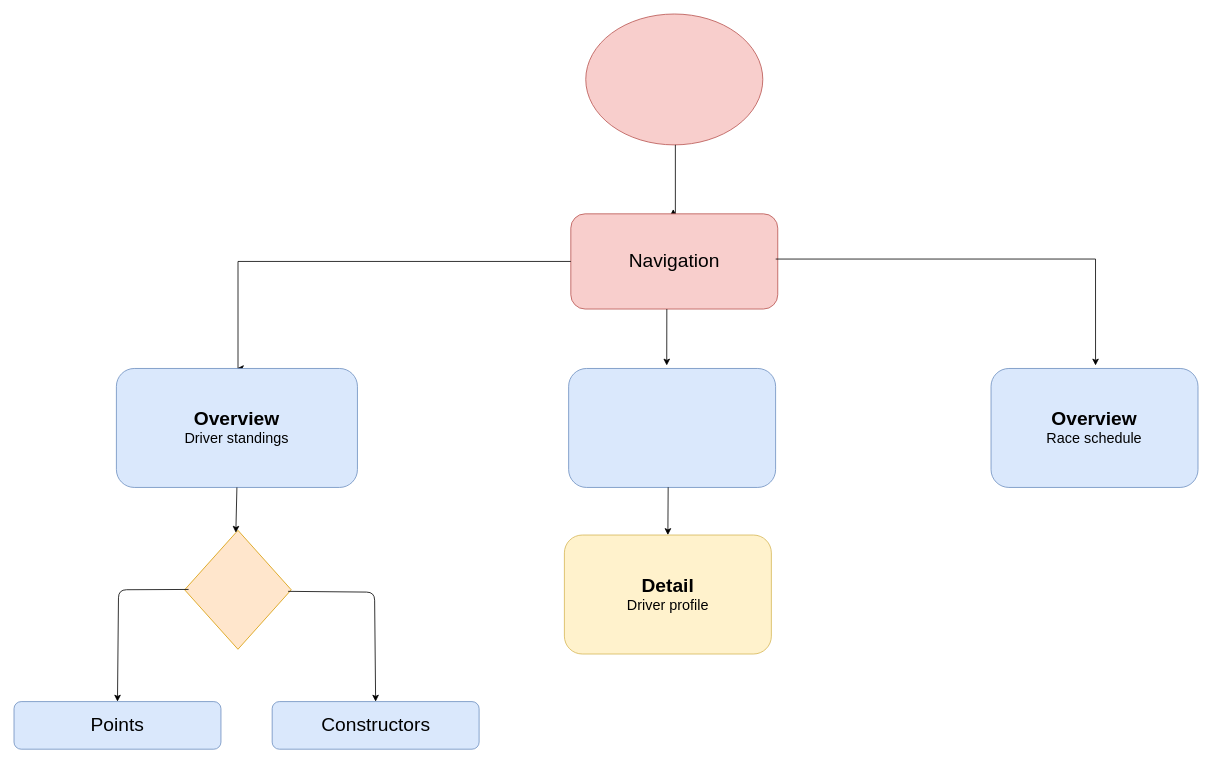
Image size: 1212x763. Some labels were removed from this diagram. The box of each missing label's shape, as (x1, y1, x2, y2) in pixels:
filter: (184, 530, 291, 649)
Overview Drivers: (568, 368, 776, 487)
Start: (585, 13, 763, 145)
